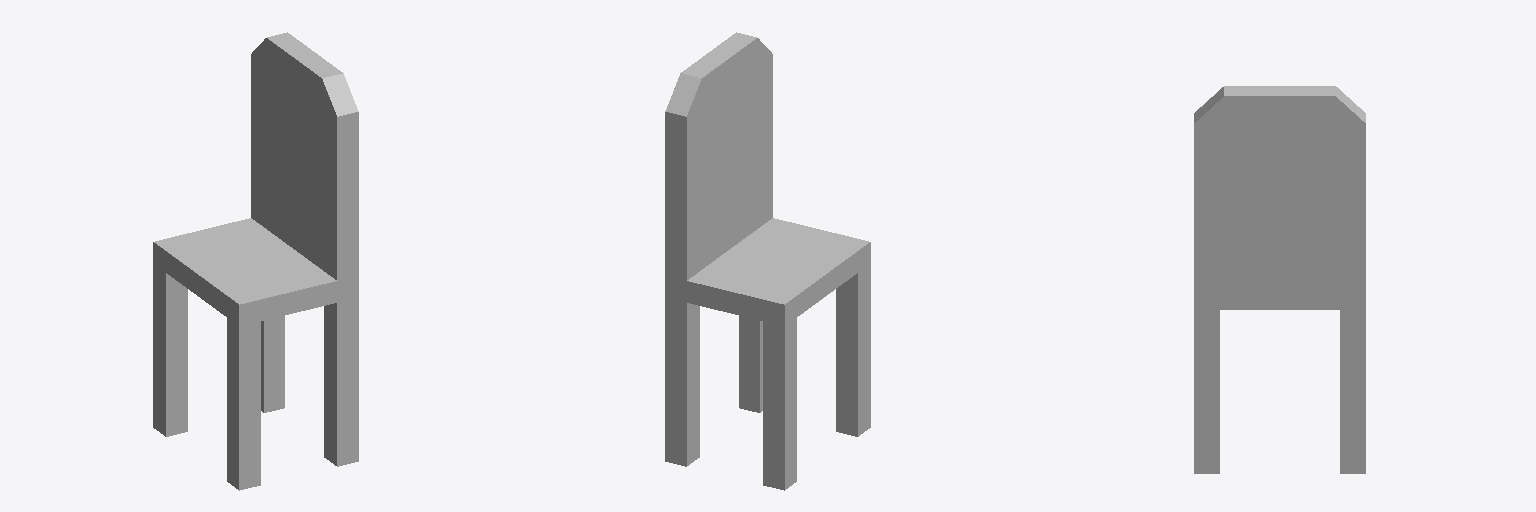
Rendered from chear.obj.
The picture shows the model from 3 angles: view 1: azimuth 30°, elevation 25°; view 2: azimuth 150°, elevation 25°; view 3: azimuth 270°, elevation 25°; orthographic projection.
Visible parts, largest first — view 1: Cube.055_Cube.064; view 2: Cube.055_Cube.064; view 3: Cube.055_Cube.064.
Boxes of the visible parts, x1=… form: Cube.055_Cube.064: x1=153, y1=32, x2=358, y2=490; Cube.055_Cube.064: x1=665, y1=32, x2=870, y2=490; Cube.055_Cube.064: x1=1194, y1=86, x2=1365, y2=473.
Bounding box in the file's own units: 0.4561 × 1.38 × 0.5701.